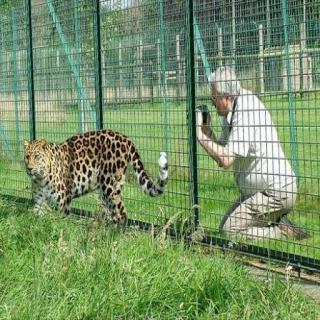Leopard: (19, 127, 180, 220)
